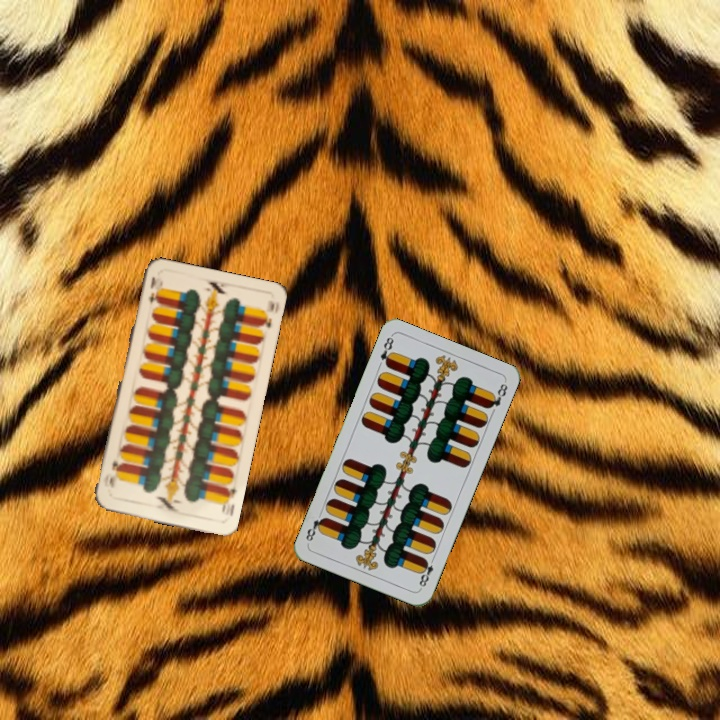E10: (218, 483, 239, 519), (144, 273, 160, 307)
E8: (415, 553, 438, 591), (376, 332, 397, 369)
